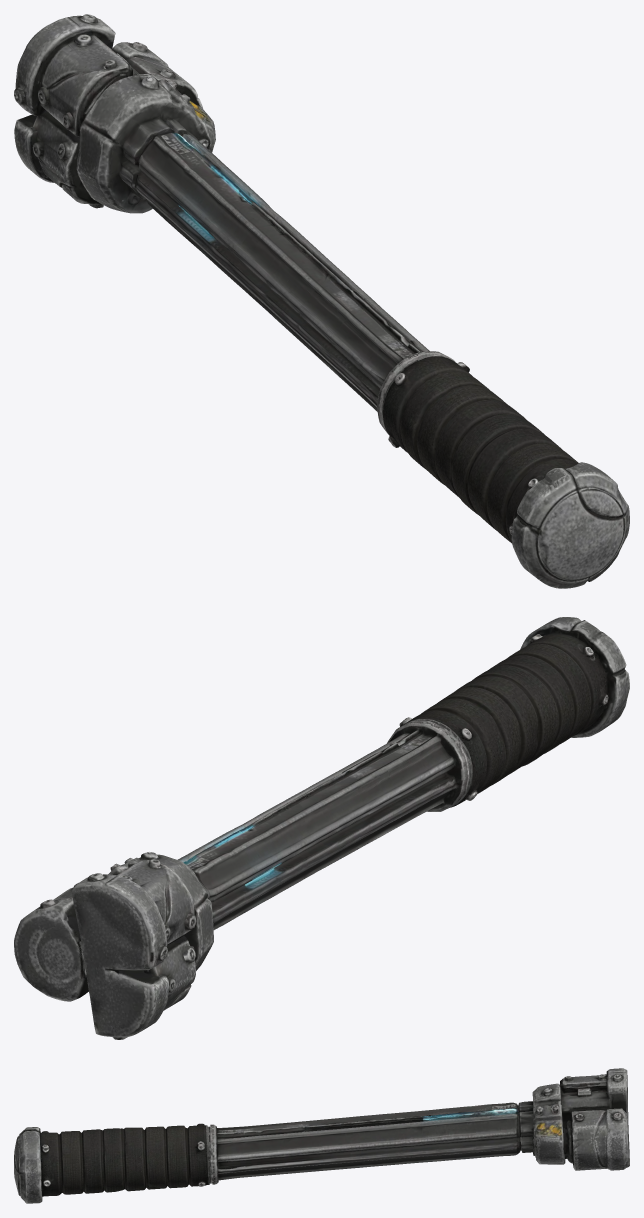
The model's file is hp_viewmodel_iron_rod_scripted_derived.glb.
3 views of the same model, one above another, from view 1: azimuth 30°, elevation 25°; view 2: azimuth 150°, elevation 25°; view 3: azimuth 270°, elevation 25° (orthographic). The views are drawn at different scales.
Visible parts, largest first — view 1: iron_rod_scripted_derived_visual_body; view 2: iron_rod_scripted_derived_visual_body; view 3: iron_rod_scripted_derived_visual_body.
Part boxes in pixels (<box>): iron_rod_scripted_derived_visual_body: <box>14,14,629,588</box>; iron_rod_scripted_derived_visual_body: <box>14,617,629,1039</box>; iron_rod_scripted_derived_visual_body: <box>14,1068,629,1203</box>.
Size of the model in its own units: 0.1667 by 0.2216 by 0.9801.
1 material, 1 textured.
